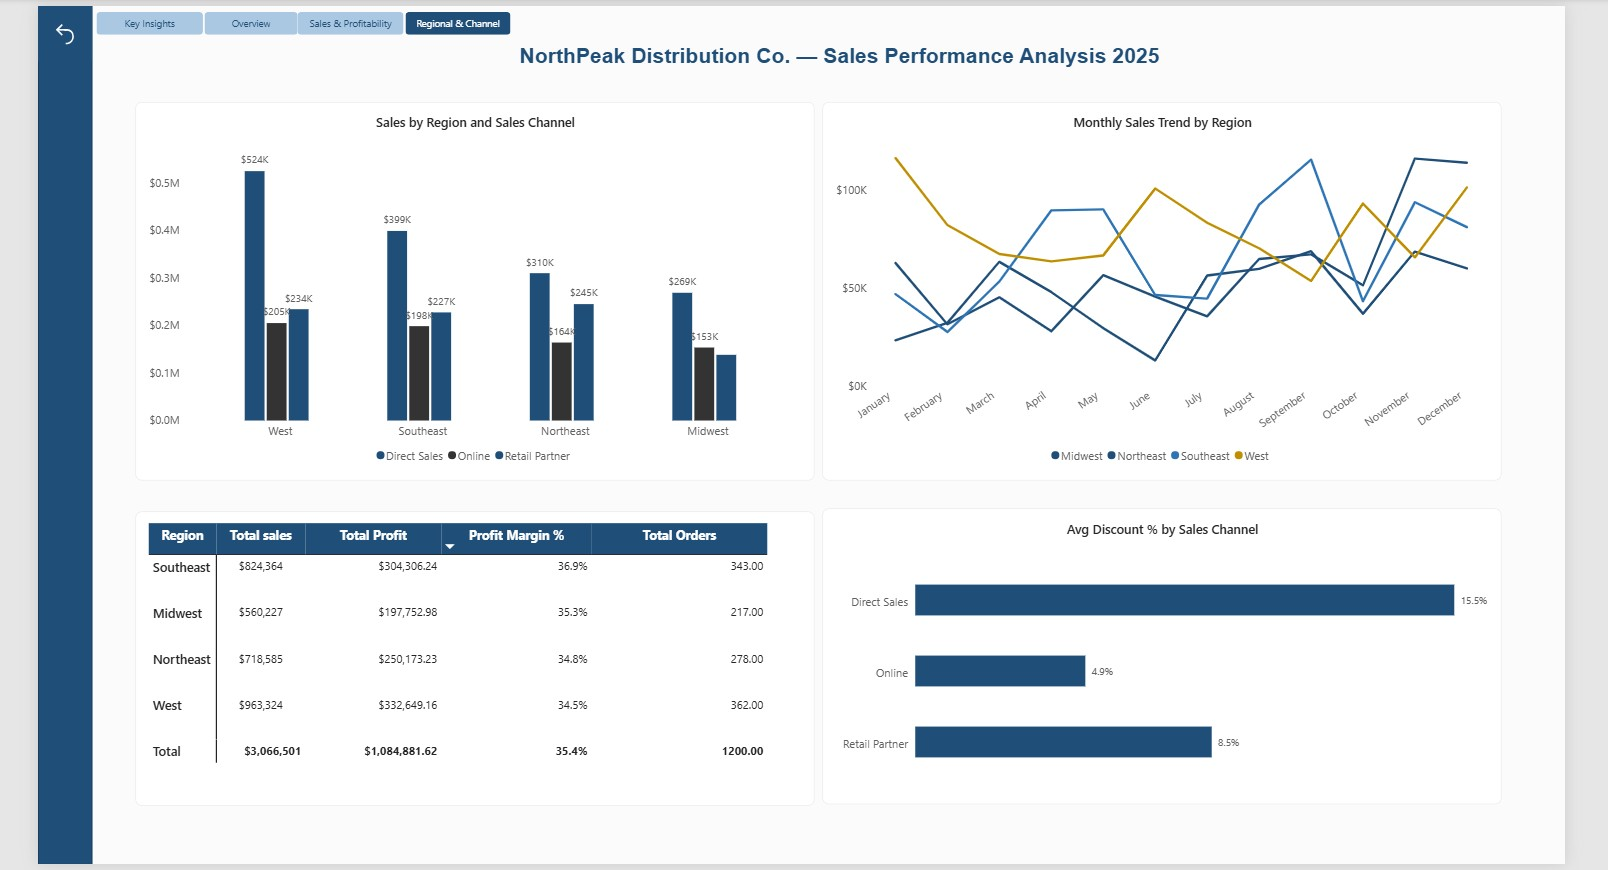

Layout of this report page (visuals, bound fields, positions):
{"tool":"powerbi","page":{"name":"Regional & Channel","canvas":[1920,1080],"ordinal":3},"visuals":[{"type":"clusteredColumnChart","title":"Sales by Region and Sales Channel","fields":{"Series":["Sales_Data.Sales Channel"],"Category":["Sales_Data.Region"],"Y":["Measure Table.Total sales"]},"box":[122.9,119.9,854,476],"z":0},{"type":"pivotTable","fields":{"Rows":["Sales_Data.Region"],"Values":["Measure Table.Total sales","Measure Table.Total Profit","Measure Table.Profit Margin %","Measure Table.Total Orders"]},"box":[122.9,635.9,854,370],"z":1000},{"type":"shape","box":[0,0,68.3,1080],"z":2000},{"type":"actionButton","box":[0,0,68,70],"z":3000},{"type":"lineChart","title":"Monthly Sales Trend by Region","fields":{"Category":["Calendar.Month Name"],"Y":["Measure Table.Total sales"],"Series":["Sales_Data.Region"]},"box":[986.9,119.9,854,476],"z":4000},{"type":"barChart","title":"Avg Discount % by Sales Channel","fields":{"Category":["Sales_Data.Sales Channel"],"Y":["Measure Table.Average Discount %"]},"box":[986.9,631.9,854,372],"z":5000},{"type":"textbox","box":[397.5,47.5,1220,45],"z":6000},{"type":"actionButton","box":[208.6,7.1,117.1,28.6],"z":7000},{"type":"actionButton","box":[462,7,132,28.7],"z":8000},{"type":"actionButton","box":[327.2,7,133.3,28.7],"z":9000},{"type":"actionButton","box":[73.1,6.9,133.8,28.5],"z":14000}]}

Visuals, with their boxes on the page's 1920x1080 design canvas (x1, y1, x2, y2). These are canvas units, not pixel positions in the 1608x870 screenshot, which may show the page scaled, cropped or inside an application window:
"Sales by Region and Sales Channel" clusteredColumnChart: [x1=123, y1=120, x2=977, y2=596]
pivotTable - Sales_Data.Region x Measure Table.Total sales: [x1=123, y1=636, x2=977, y2=1006]
shape: [x1=0, y1=0, x2=68, y2=1080]
actionButton: [x1=0, y1=0, x2=68, y2=70]
"Monthly Sales Trend by Region" lineChart: [x1=987, y1=120, x2=1841, y2=596]
"Avg Discount % by Sales Channel" barChart: [x1=987, y1=632, x2=1841, y2=1004]
textbox: [x1=398, y1=48, x2=1618, y2=92]
actionButton: [x1=209, y1=7, x2=326, y2=36]
actionButton: [x1=462, y1=7, x2=594, y2=36]
actionButton: [x1=327, y1=7, x2=460, y2=36]
actionButton: [x1=73, y1=7, x2=207, y2=35]
